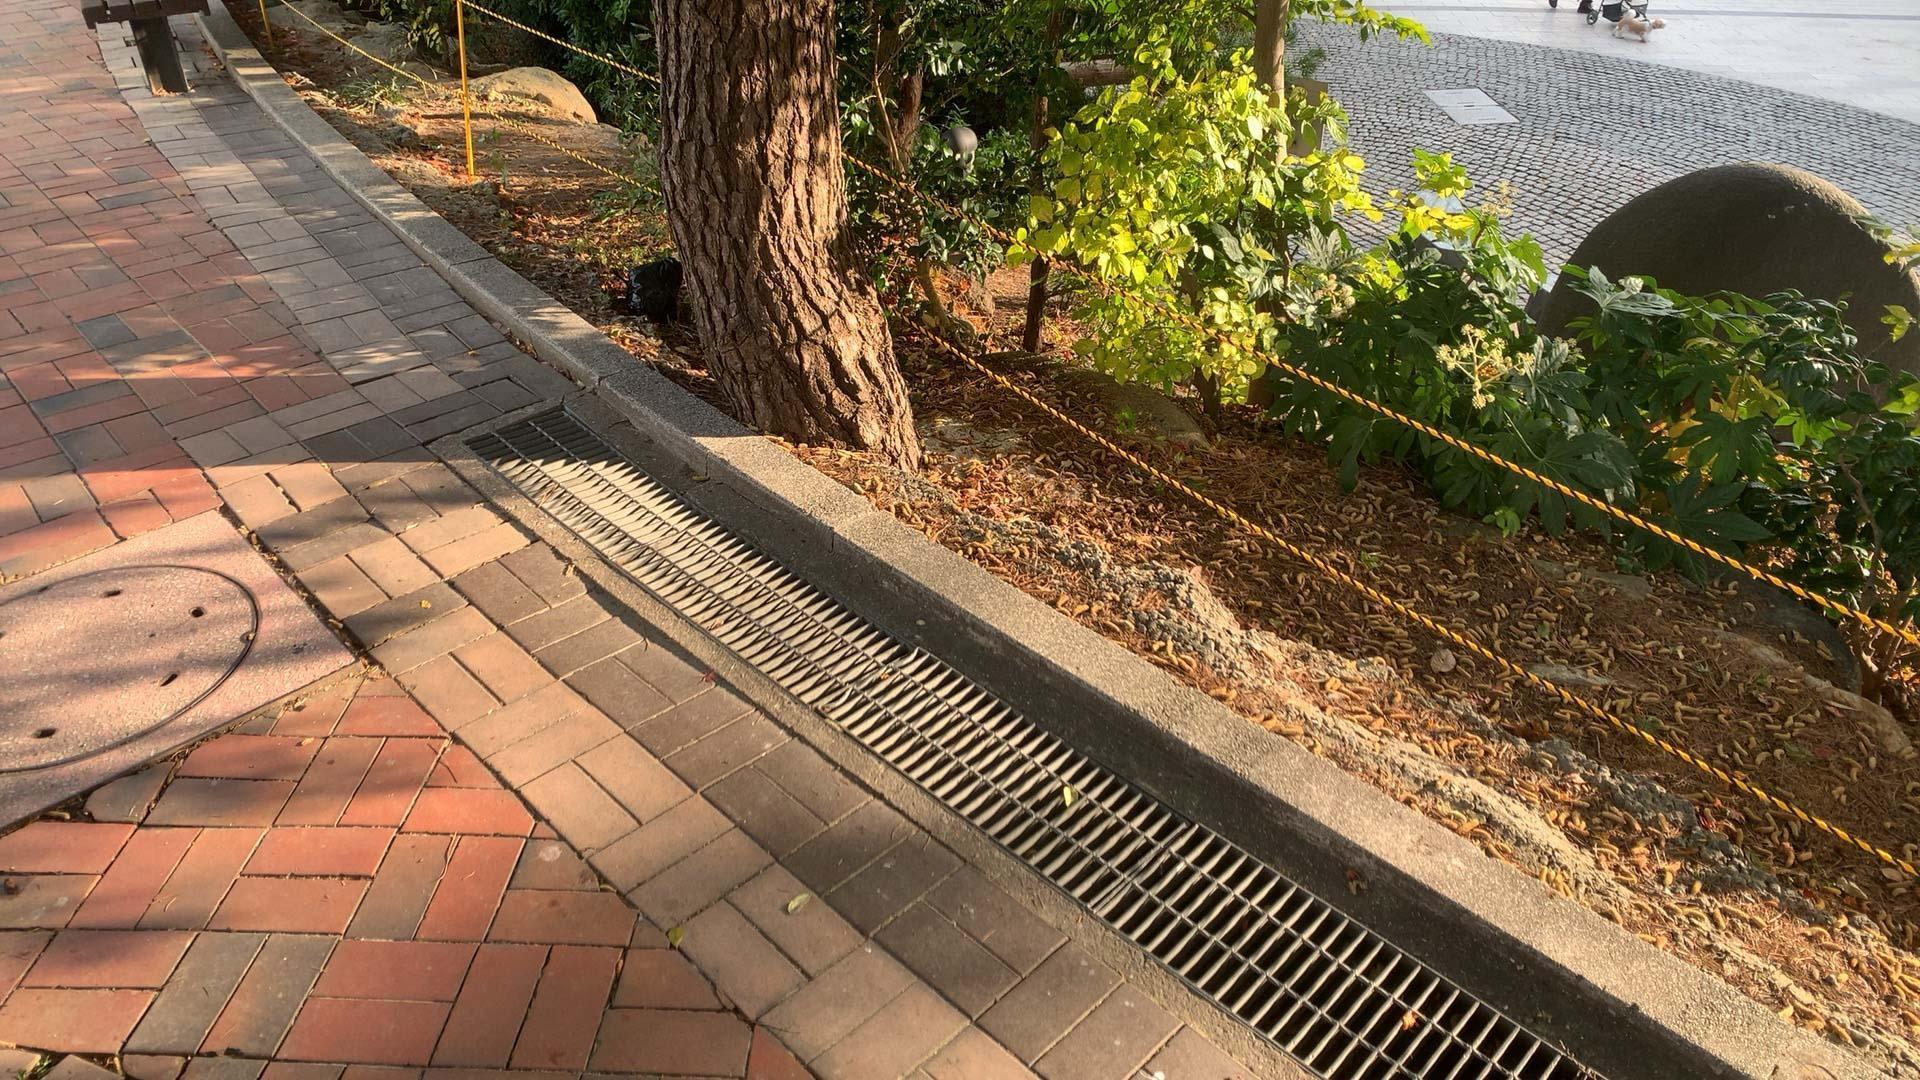black_bag: (614, 250, 687, 334)
